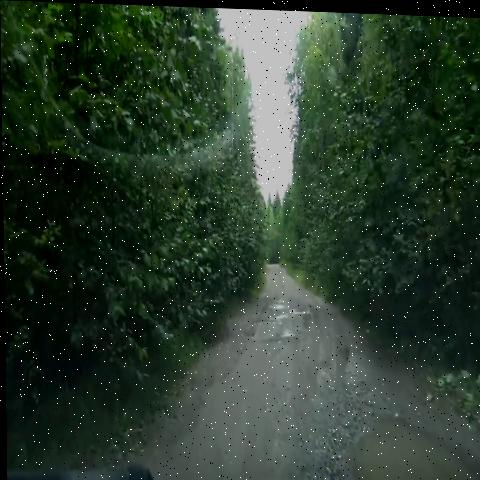pothole: (304, 363, 480, 480), (266, 321, 298, 344), (285, 305, 311, 324), (241, 316, 258, 344), (269, 290, 290, 312), (246, 311, 269, 330), (272, 307, 291, 321)
